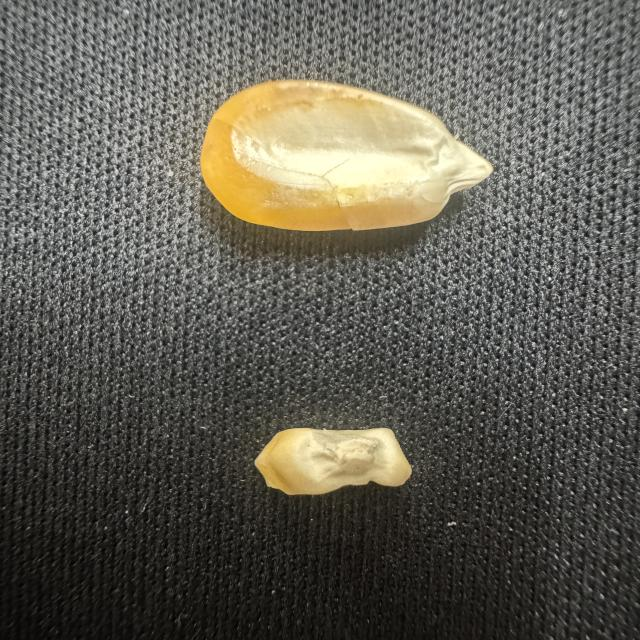Bad-Seed: (252, 418, 420, 508)
Good-Seed: (195, 70, 504, 249)
